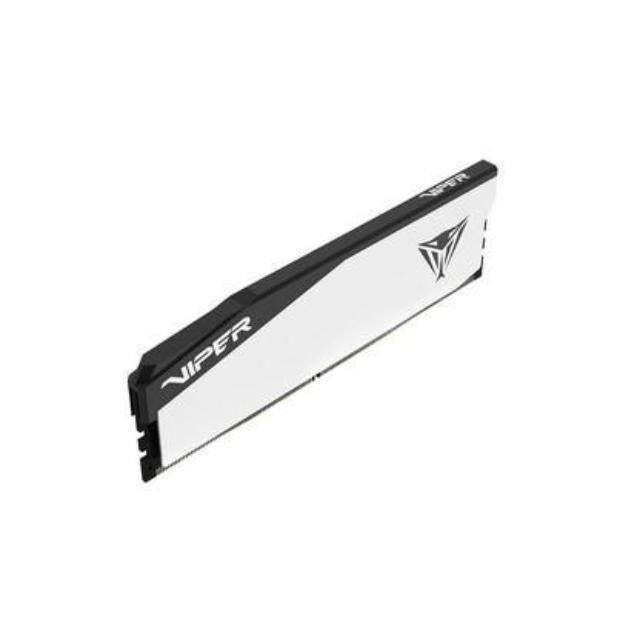RAM: (126, 158, 509, 487)
